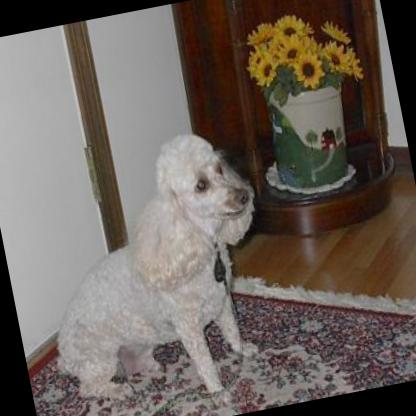miniature_poodle: (11, 111, 295, 416)
